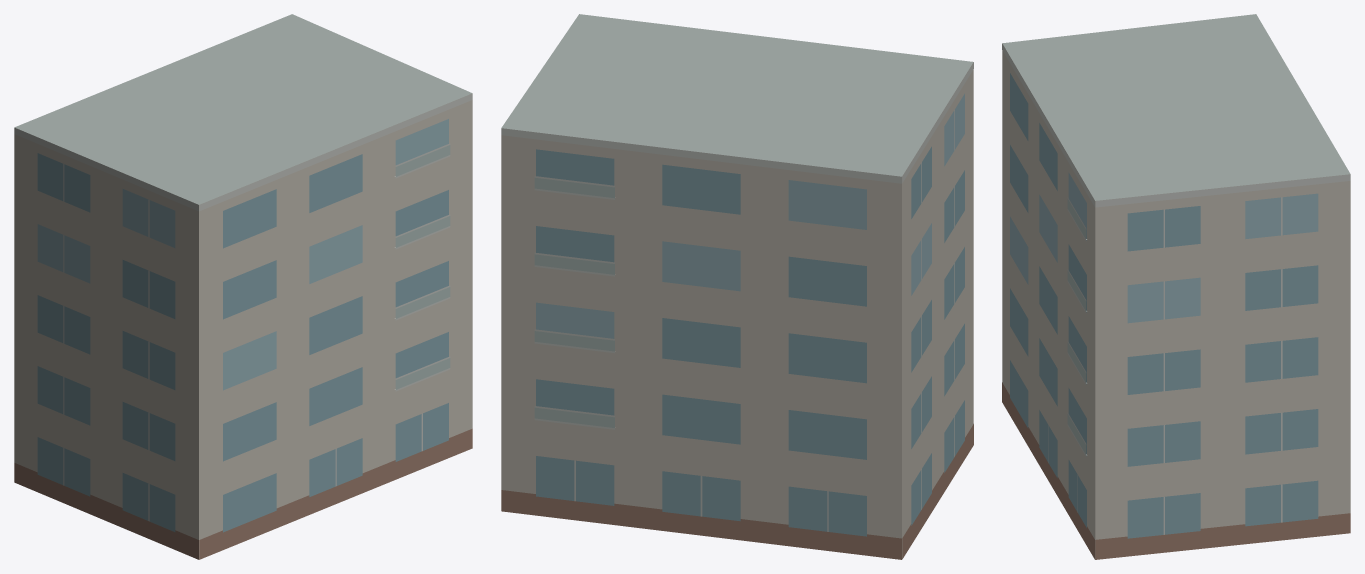
Rendered from survey-upis-32715255.glb.
3 views of the same model, side by side, from view 1: azimuth 30°, elevation 25°; view 2: azimuth 150°, elevation 25°; view 3: azimuth 270°, elevation 25° (orthographic). The views are drawn at different scales.
Visible parts, largest first — view 1: survey-upis-32715255.tmp; view 2: survey-upis-32715255.tmp; view 3: survey-upis-32715255.tmp.
Boxes of the visible parts, <box> form: survey-upis-32715255.tmp: <box>14,14,472,559</box>; survey-upis-32715255.tmp: <box>501,14,973,559</box>; survey-upis-32715255.tmp: <box>1002,14,1350,559</box>.
Size of the model in its own units: 14.75 by 13.2 by 11.62.
